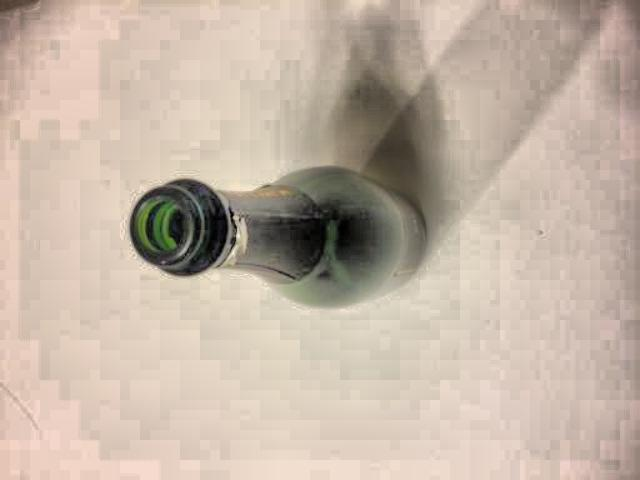Bottles: (127, 145, 457, 330)
